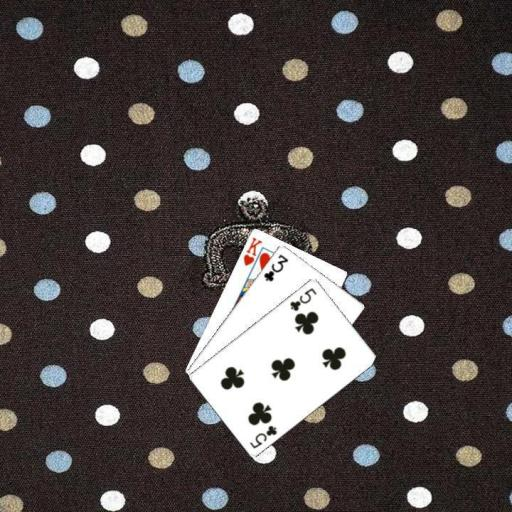card-corner: (260, 250, 290, 283), (286, 285, 318, 312), (247, 422, 279, 449), (240, 234, 264, 267)
